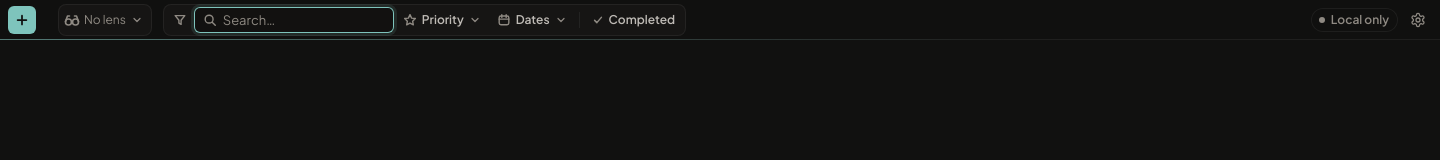
Test: TopBar renders for the tasks only while it searches them › while the dropdown shows, it follows a task changed meanwhile
Type "buy" into the field with placeholder "Search…".
click(294, 20); type("buy")  # box [194, 6, 394, 32]
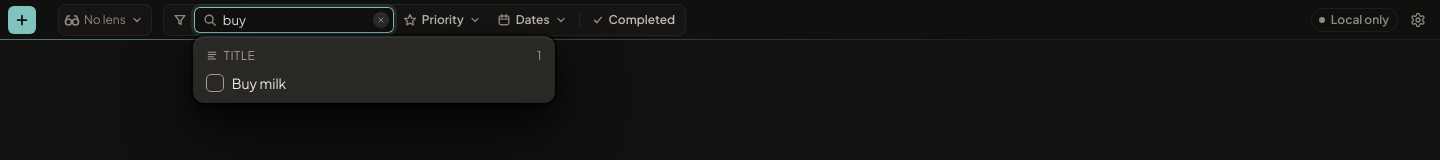
Expected: the options read "Buy milk", in this order, [232, 74, 542, 92]
